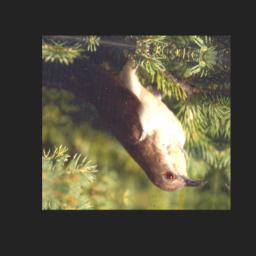Cuckoo: (51, 49, 221, 198)
